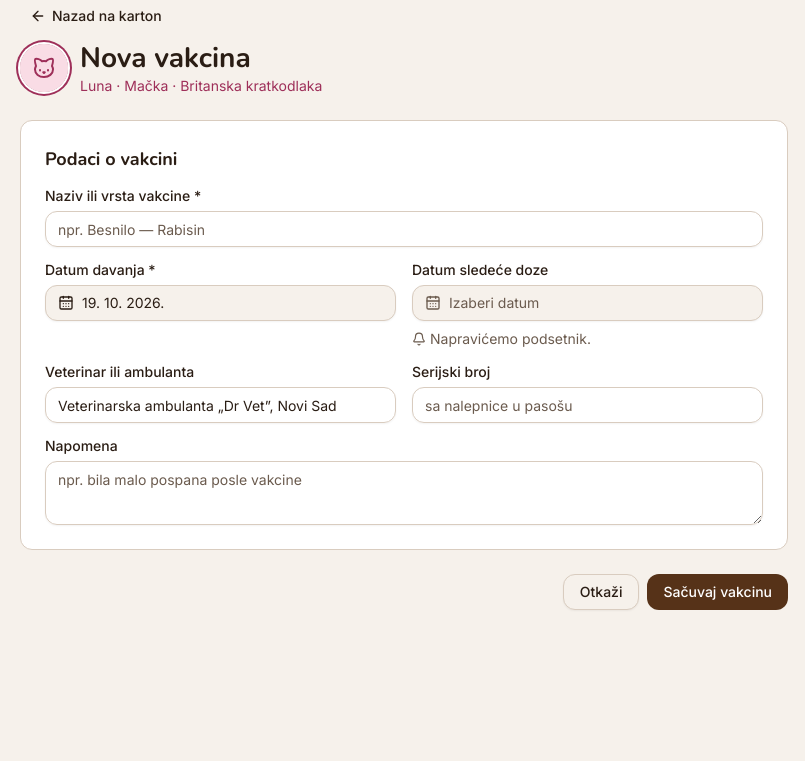
Scenario: S04 — new vaccination › any other failure → the X ErrorState
The image size is (805, 761).
Type "Besnilo" into the field labelled "Naziv ili vrsta vakcine *" at (404, 229), box [45,211,763,247]
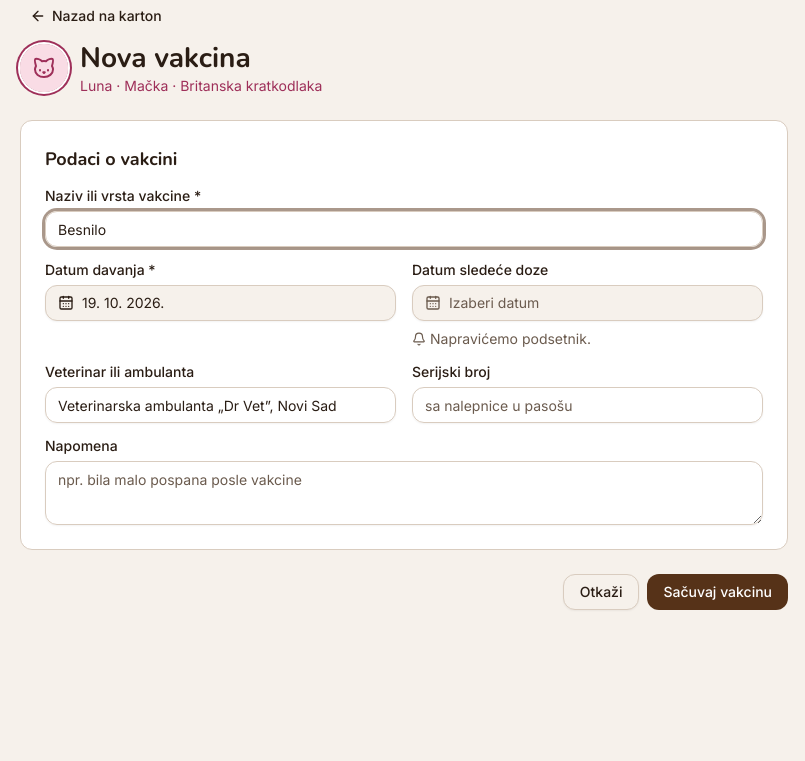
Click the button "Sačuvaj vakcinu" at (718, 592), box [648,574,788,610]
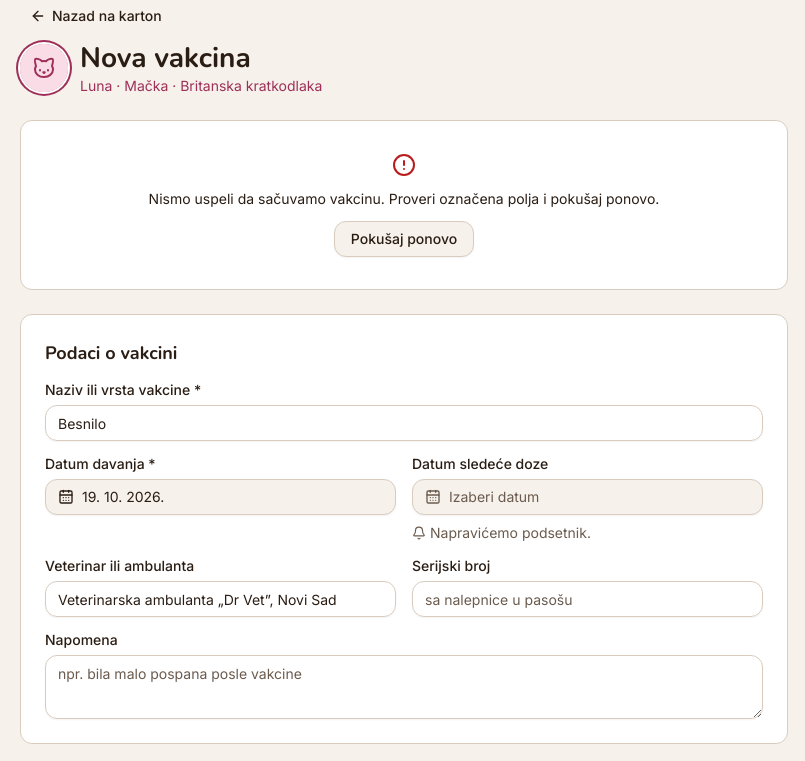
Check: the message shows "Nismo uspeli da sačuvamo vakcinu. Proveri označena polja i pokušaj ponovo.", box [149,190,659,207]
